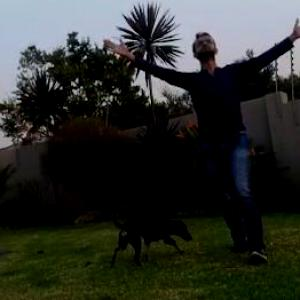takeoff: (125, 33, 299, 247)
